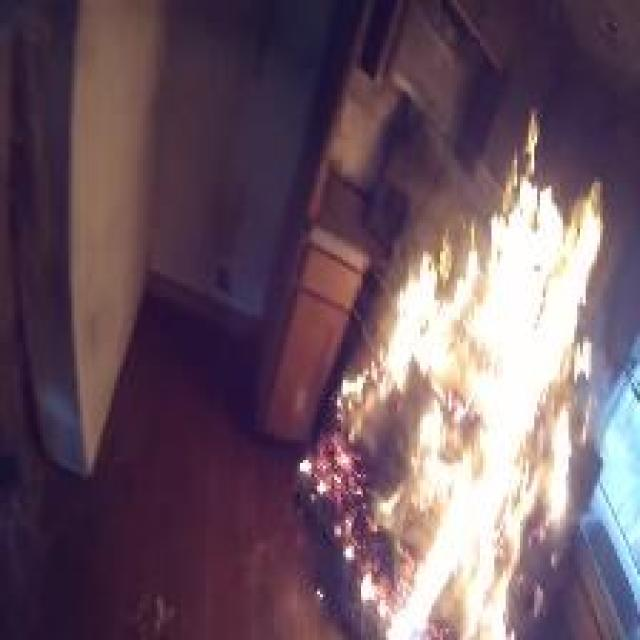fire: (315, 117, 630, 639)
